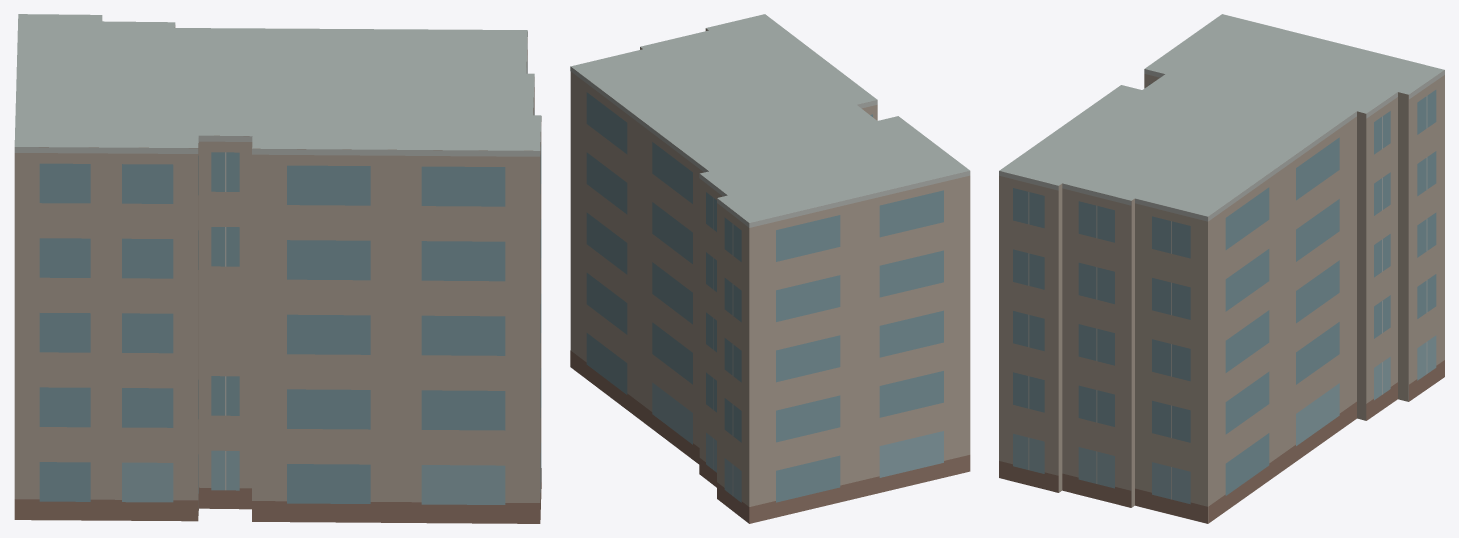
File: survey-upis-32873775.glb
3 renders of one model, left to right at view 1: azimuth 30°, elevation 25°; view 2: azimuth 150°, elevation 25°; view 3: azimuth 270°, elevation 25°, orthographic. The views are drawn at different scales.
Visible parts, largest first — view 1: survey-upis-32873775.tmp; view 2: survey-upis-32873775.tmp; view 3: survey-upis-32873775.tmp.
Part boxes in pixels (left/top/right/bottom): survey-upis-32873775.tmp: left=14, top=14, right=541, bottom=523; survey-upis-32873775.tmp: left=570, top=14, right=970, bottom=523; survey-upis-32873775.tmp: left=999, top=14, right=1444, bottom=523.
Size of the model in its own units: 21.59 by 15.25 by 20.07.
